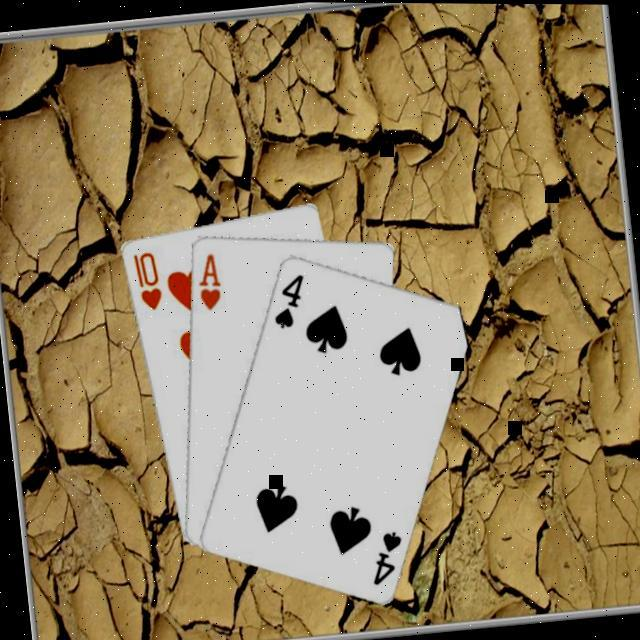10H: (127, 246, 164, 313)
4S: (265, 268, 310, 330), (362, 524, 407, 586)
AH: (191, 247, 225, 312)
